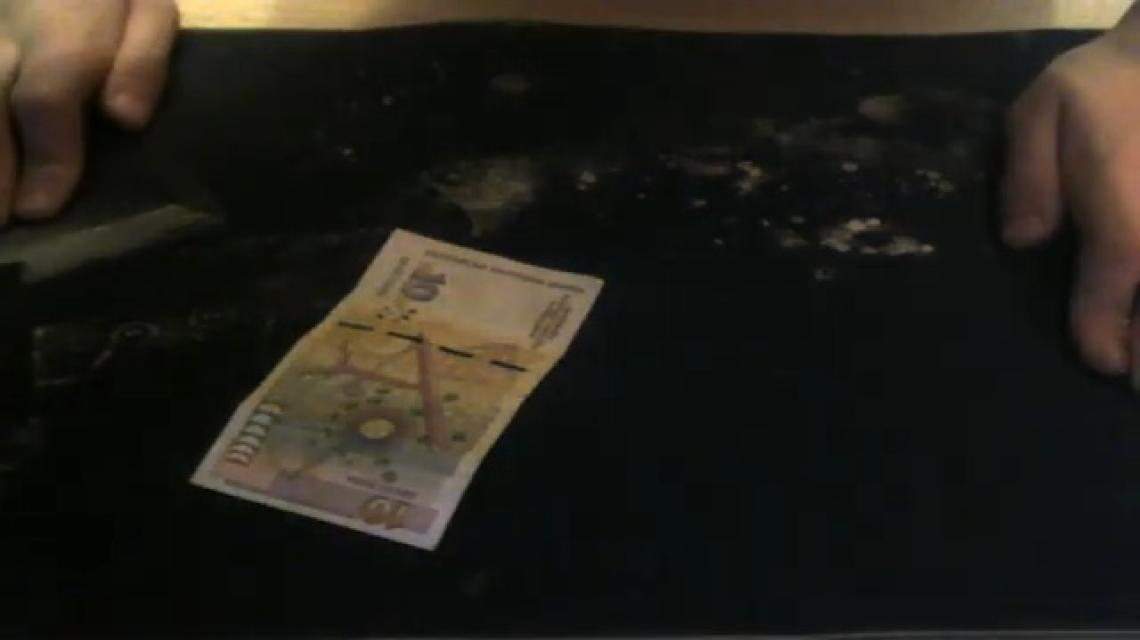10leva: (191, 231, 607, 553)
